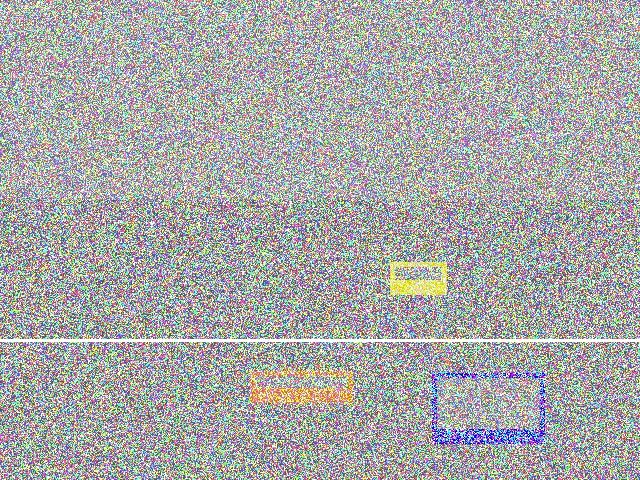car: (303, 287, 489, 413)
motorcycle: (274, 245, 387, 316)
